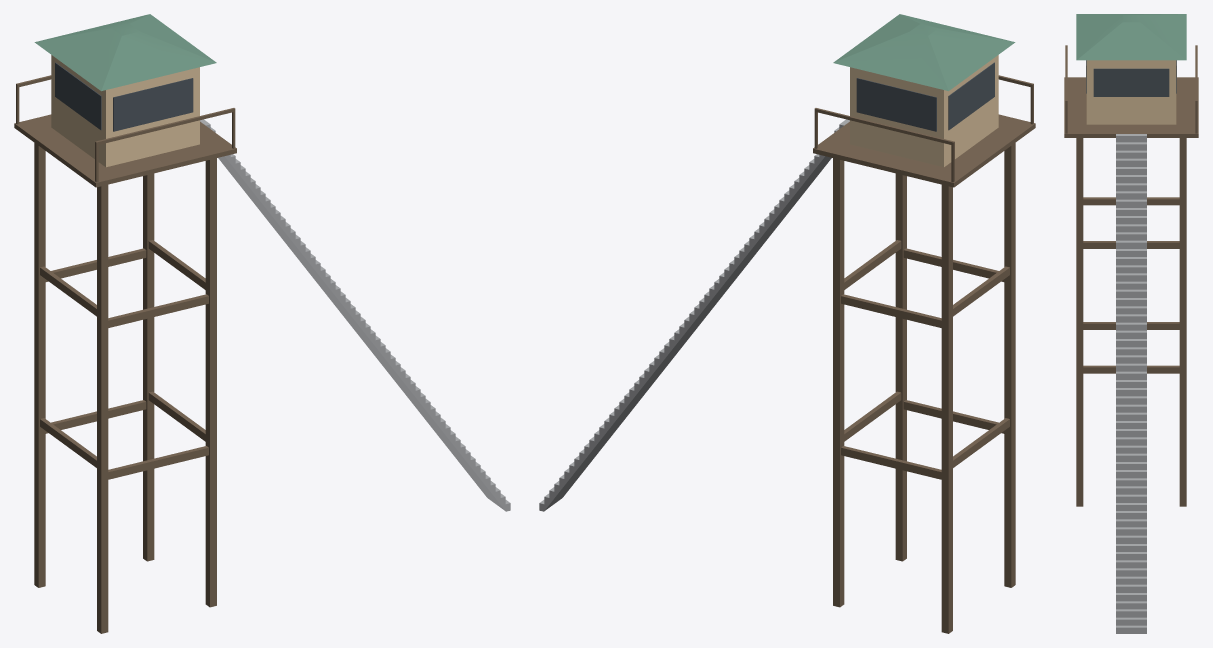
File: fire_tower.glb
3 views of the same model, side by side, from view 1: azimuth 30°, elevation 25°; view 2: azimuth 150°, elevation 25°; view 3: azimuth 270°, elevation 25° (orthographic). The views are drawn at different scales.
Parts seen in each view (by area): view 1: roof, stair, cab, leg_0, leg_1, leg_2, deck, leg_3, win_n, win_w, girt_x_n_4000, girt_x_n_8000 (+6 smaller); view 2: roof, stair, cab, leg_2, leg_3, leg_0, deck, leg_1, win_s, win_w, girt_x_s_4000, girt_x_s_8000 (+6 smaller); view 3: stair, roof, cab, deck, leg_1, leg_3, win_e, girt_y_e_4000, girt_y_w_8000, girt_y_w_4000, girt_y_e_8000.
Part boxes in pixels (x1,y1,x2,y2): roof: (34,14,216,91); stair: (200,119,510,511); cab: (51,55,199,167); leg_0: (97,184,108,633); leg_1: (205,158,216,607); leg_2: (34,143,45,587); deck: (14,114,236,187); leg_3: (143,173,154,561); win_n: (113,78,193,131); win_w: (55,62,101,130); girt_x_n_4000: (108,446,208,479); girt_x_n_8000: (108,294,208,327); roof: (833,14,1015,91); stair: (539,119,849,511); cab: (850,55,998,167); leg_2: (941,184,952,633); leg_3: (833,158,844,607); leg_0: (1004,143,1015,587); deck: (813,114,1035,187); leg_1: (895,173,906,561); win_s: (856,78,936,131); win_w: (948,62,994,130); girt_x_s_4000: (841,446,941,479); girt_x_s_8000: (841,294,941,327); stair: (1116,134,1146,633); roof: (1076,14,1186,60); cab: (1086,60,1176,124); deck: (1064,77,1198,137); leg_1: (1076,138,1083,506); leg_3: (1179,138,1186,506); win_e: (1093,68,1169,96); girt_y_e_4000: (1083,365,1179,373); girt_y_w_8000: (1083,197,1179,205); girt_y_w_4000: (1083,322,1179,329); girt_y_e_8000: (1083,241,1179,248).
Bounding box in the file's own units: 12.32 × 14.92 × 3.9.
